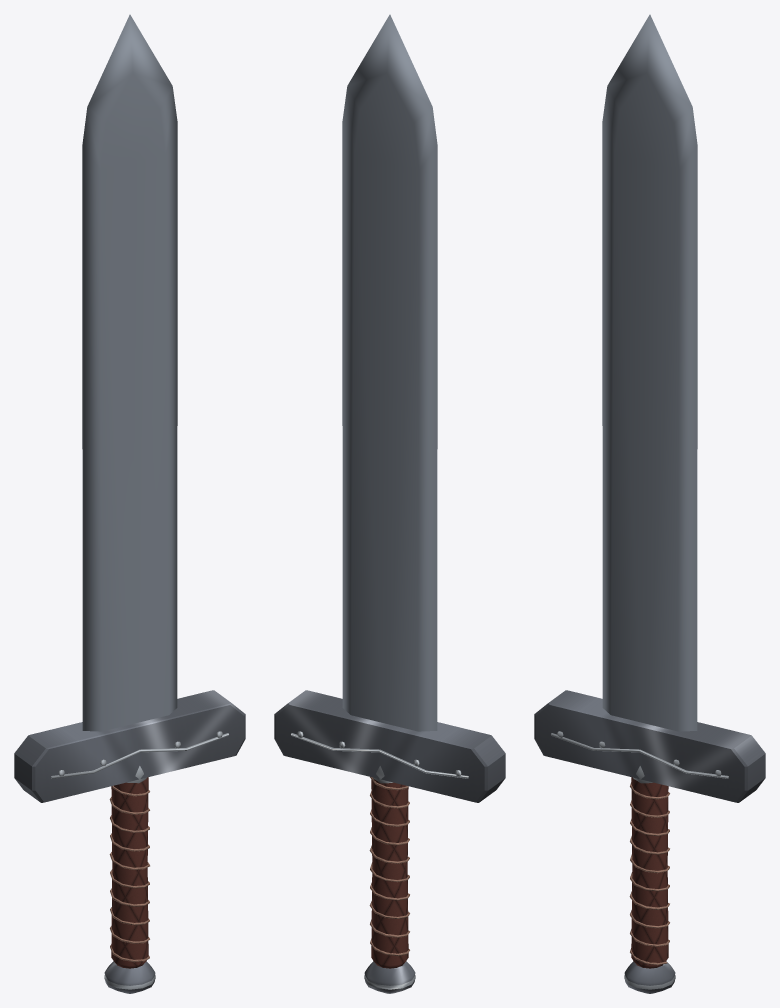
File: giants_knife.glb
3 renders of one model, left to right at view 1: azimuth 30°, elevation 25°; view 2: azimuth 150°, elevation 25°; view 3: azimuth 330°, elevation 25°, orthographic.
Parts seen in each view (by area): view 1: Ordon-inspired heavy fullered blade, Riveted iron Knife crossbar, Shaped oval leather grip, Raised diagonal leather wrap, Heavy capped pommel, Machined guard lip; view 2: Ordon-inspired heavy fullered blade, Riveted iron Knife crossbar, Shaped oval leather grip, Raised diagonal leather wrap, Heavy capped pommel, Machined guard lip; view 3: Ordon-inspired heavy fullered blade, Riveted iron Knife crossbar, Shaped oval leather grip, Raised diagonal leather wrap, Heavy capped pommel, Machined guard lip.
Part boxes in pixels (bbox=[...]): Ordon-inspired heavy fullered blade: bbox=[82, 14, 177, 731]; Riveted iron Knife crossbar: bbox=[14, 690, 245, 802]; Shaped oval leather grip: bbox=[111, 777, 148, 968]; Raised diagonal leather wrap: bbox=[109, 785, 149, 962]; Heavy capped pommel: bbox=[104, 961, 155, 993]; Machined guard lip: bbox=[51, 733, 228, 778]; Ordon-inspired heavy fullered blade: bbox=[342, 14, 437, 731]; Riveted iron Knife crossbar: bbox=[274, 690, 505, 802]; Shaped oval leather grip: bbox=[371, 777, 408, 968]; Raised diagonal leather wrap: bbox=[369, 777, 409, 956]; Heavy capped pommel: bbox=[364, 961, 415, 993]; Machined guard lip: bbox=[291, 733, 468, 778]; Ordon-inspired heavy fullered blade: bbox=[602, 14, 697, 731]; Riveted iron Knife crossbar: bbox=[534, 690, 765, 802]; Shaped oval leather grip: bbox=[631, 777, 668, 968]; Raised diagonal leather wrap: bbox=[629, 782, 669, 965]; Heavy capped pommel: bbox=[624, 961, 675, 993]; Machined guard lip: bbox=[551, 733, 728, 778].
Bounding box in the file's own units: 30.36 × 133 × 6.27.
6 materials, 6 textured.
